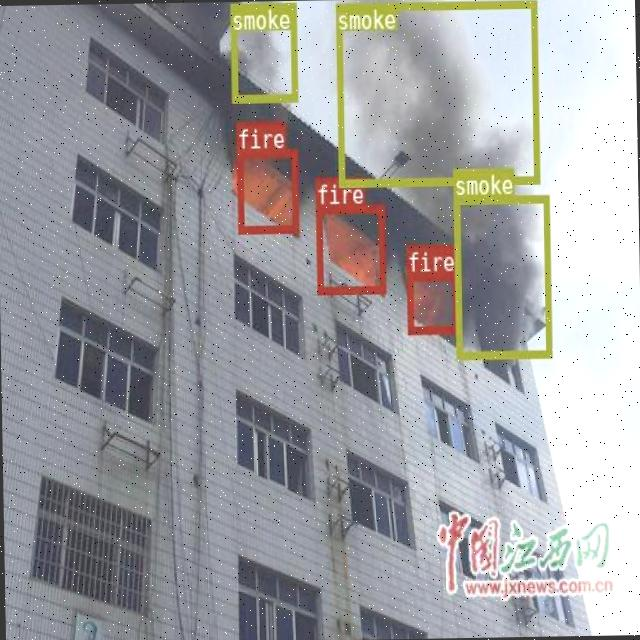fire: (314, 204, 384, 292), (236, 148, 296, 232), (406, 272, 458, 332)
smoke: (334, 0, 537, 186), (452, 192, 550, 358), (229, 2, 296, 100)
